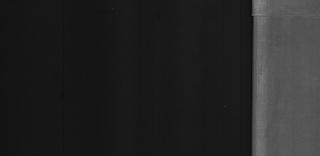welding line: (250, 11, 320, 20)
